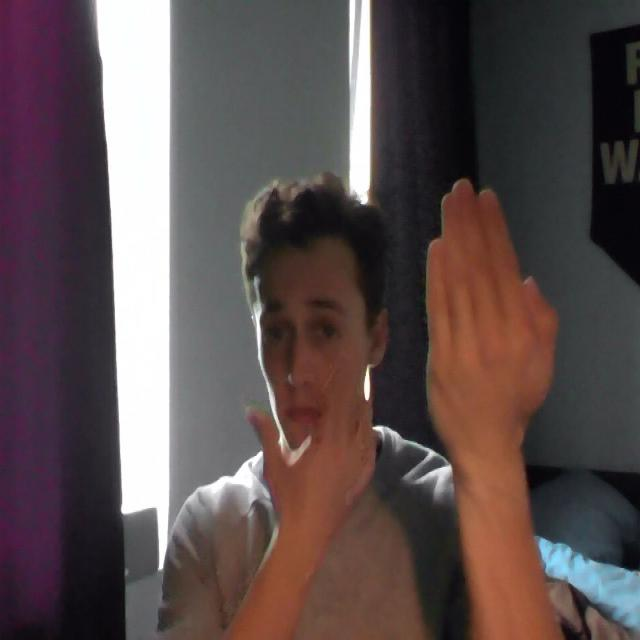forward: (416, 153, 564, 447)
